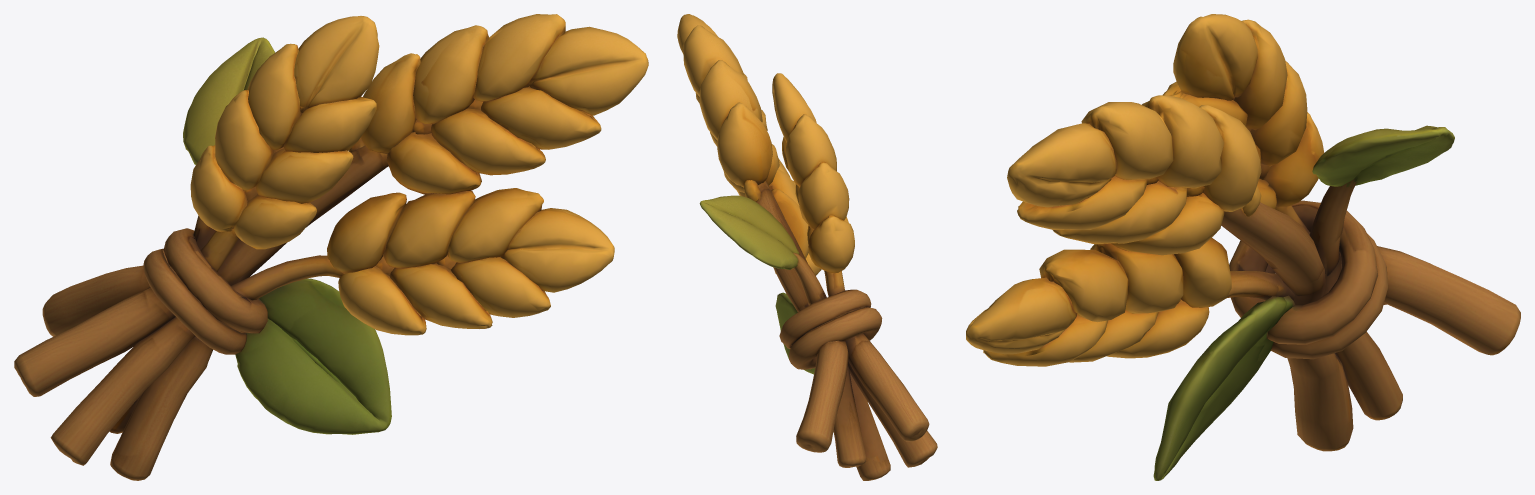
Rendered from mem_ac_wheat.fbx.
3 renders of one model, left to right at view 1: azimuth 30°, elevation 25°; view 2: azimuth 150°, elevation 25°; view 3: azimuth 270°, elevation 25°, orthographic. The views are drawn at different scales.
Parts seen in each view (by area): view 1: tripo_node_8aeb38f6; view 2: tripo_node_8aeb38f6; view 3: tripo_node_8aeb38f6.
Part boxes in pixels (left/top/right/bottom): tripo_node_8aeb38f6: left=14, top=14, right=648, bottom=480; tripo_node_8aeb38f6: left=677, top=14, right=937, bottom=480; tripo_node_8aeb38f6: left=966, top=14, right=1520, bottom=480.
Size of the model in its own units: 0.998 by 0.9199 by 0.873.
